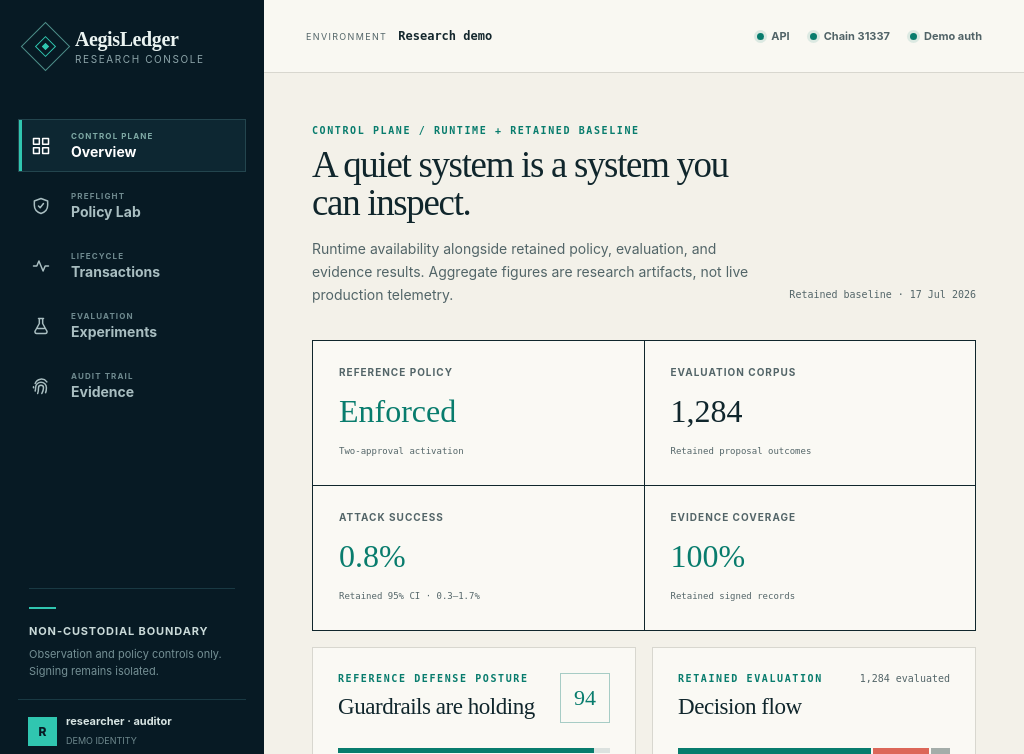
AegisLedger console › loads and verifies a retained complete attestation by proposal ID
The width and height of the screenshot is (1024, 754).
Click the button "Audit trail Evidence" at (132, 386), box x1=18 y1=359 x2=246 y2=412
(page scrolled)
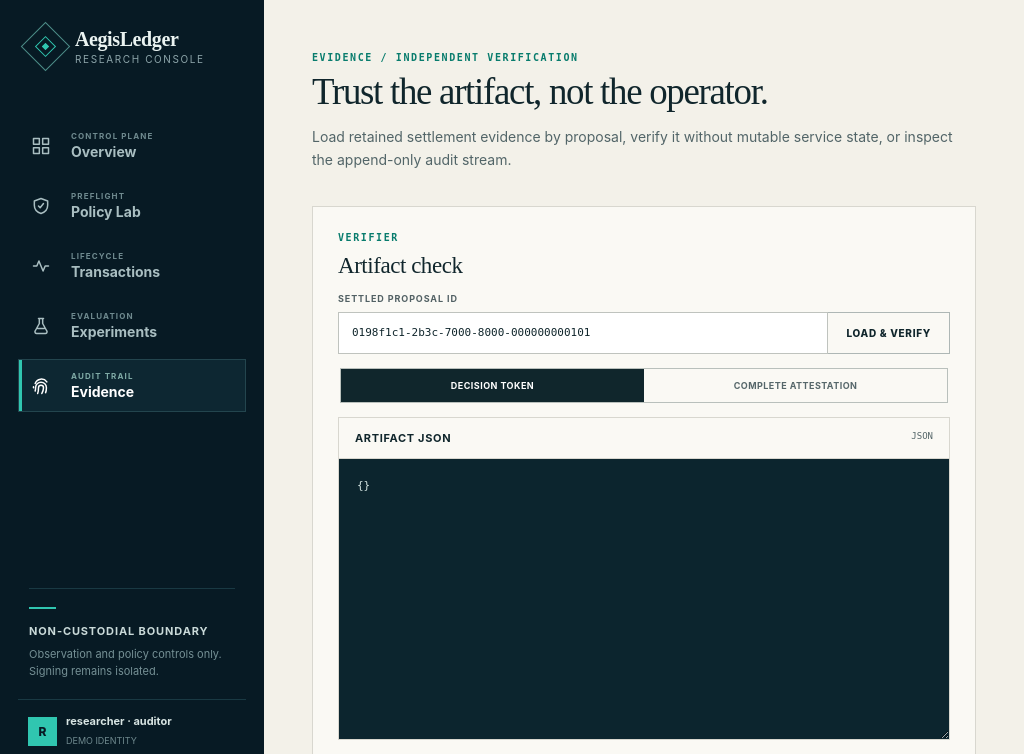
Click the button "Load & verify" at (889, 332), box x1=828 y1=312 x2=950 y2=354
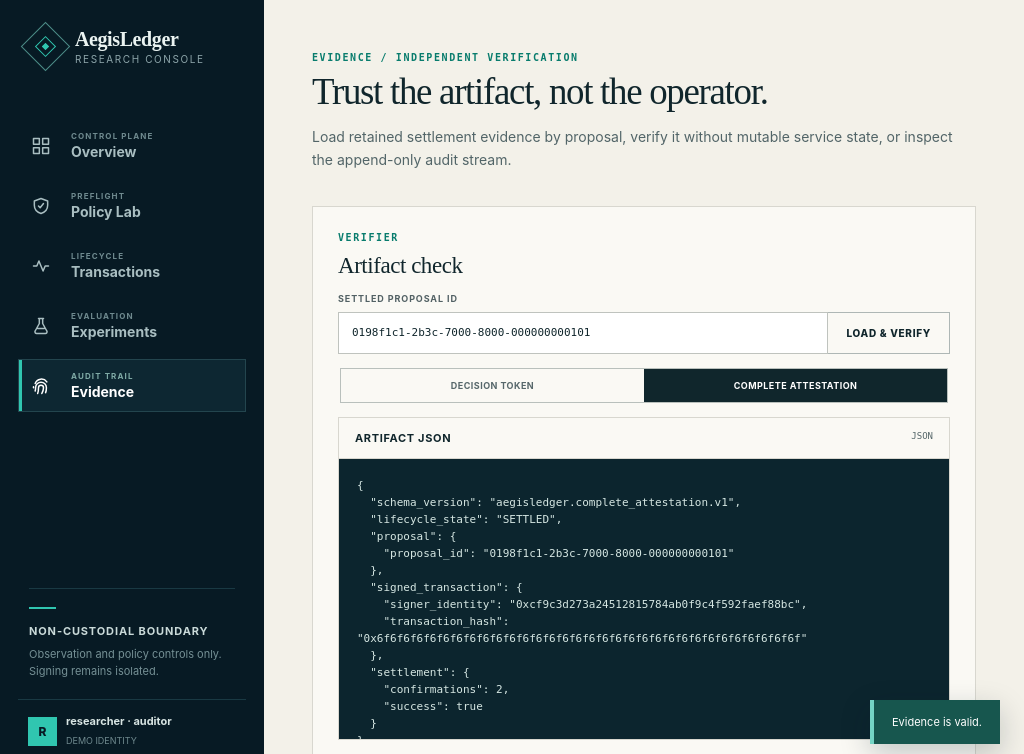
Expected: the radio button labelled "Complete attestation" is checked, x1=644 y1=368 x2=947 y2=402
